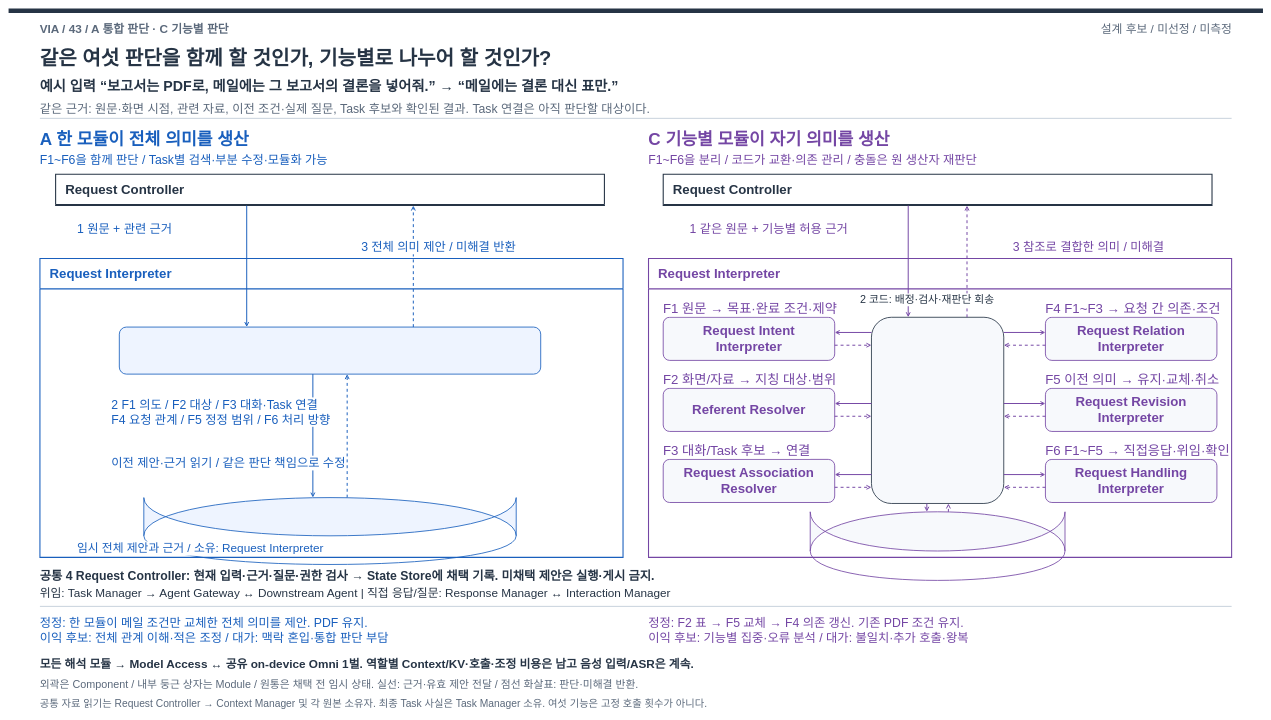
The diagram is 1271 pixels wide and 720 high, and some of its shapes have lost their labels. The centre of each missing label's shape, as x and y in pixels:
"Integrated Semantic Interpreter" belongs at point 330,350.
"Interpretation Attempt State" belongs at point 329,516.
"Interpretation Coordinator" belongs at point 937,410.
"Partial Interpretation Ledger" belongs at point 937,531.
